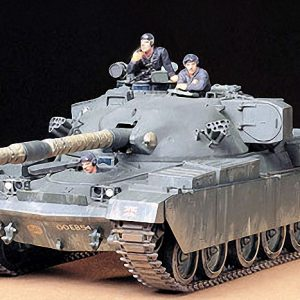Battle Tank: (3, 66, 300, 290)
